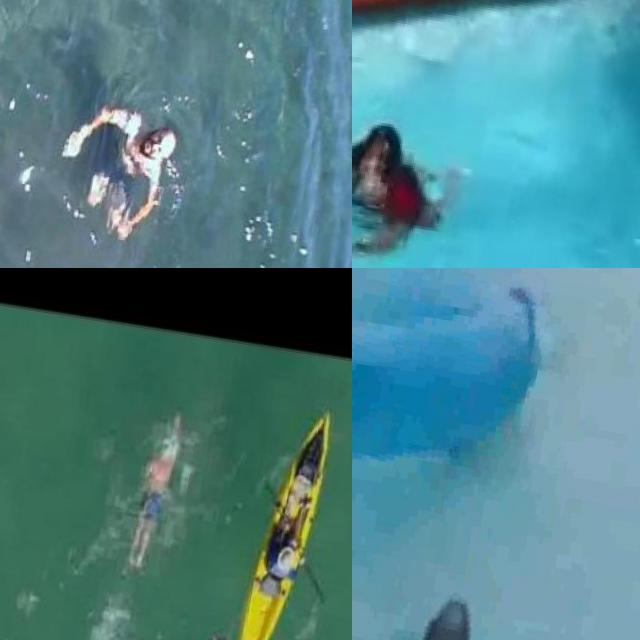drowning: (428, 268, 603, 522), (352, 90, 469, 268)
swimming: (47, 86, 188, 241), (122, 411, 188, 575)
